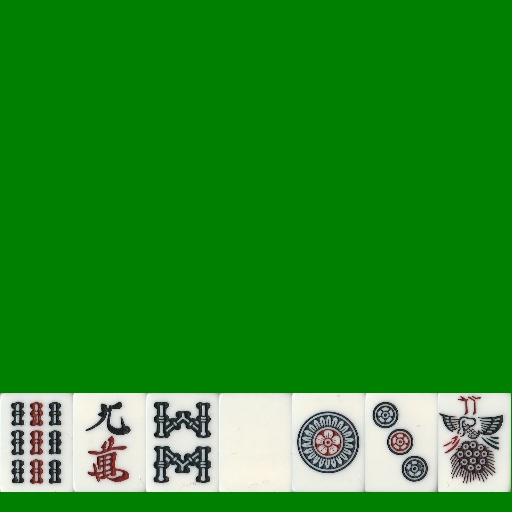1p: (292, 393, 365, 492)
1s: (438, 393, 511, 492)
3p: (365, 393, 438, 492)
8s: (146, 393, 219, 492)
9m: (73, 393, 146, 492)
9s: (0, 393, 73, 492)
white: (219, 393, 292, 492)
